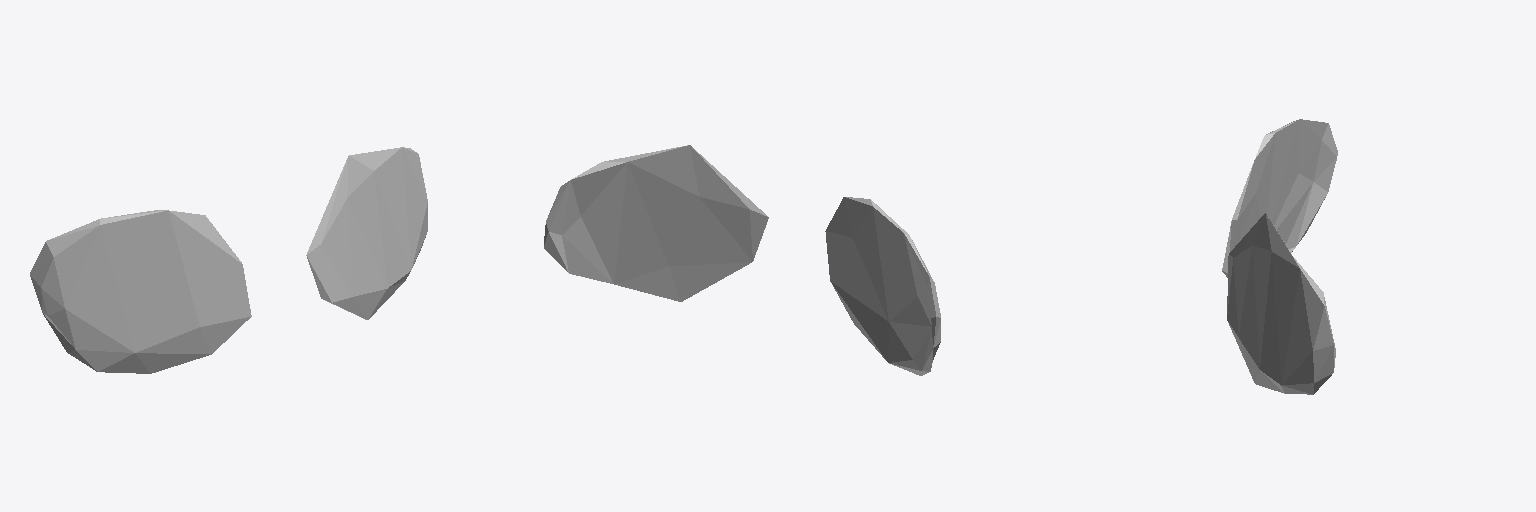
File: Lenses.OBJ
The picture shows the model from 3 angles: view 1: azimuth 30°, elevation 25°; view 2: azimuth 150°, elevation 25°; view 3: azimuth 270°, elevation 25°; orthographic projection.
Visible parts, largest first — view 1: Group4749; view 2: Group4749; view 3: Group4749.
Part boxes in pixels (x1,y1,x2,y2): Group4749: (30,147,427,373); Group4749: (544,145,940,375); Group4749: (1222,119,1337,394).
Size of the model in its own units: 20.09 by 8.26 by 5.11.